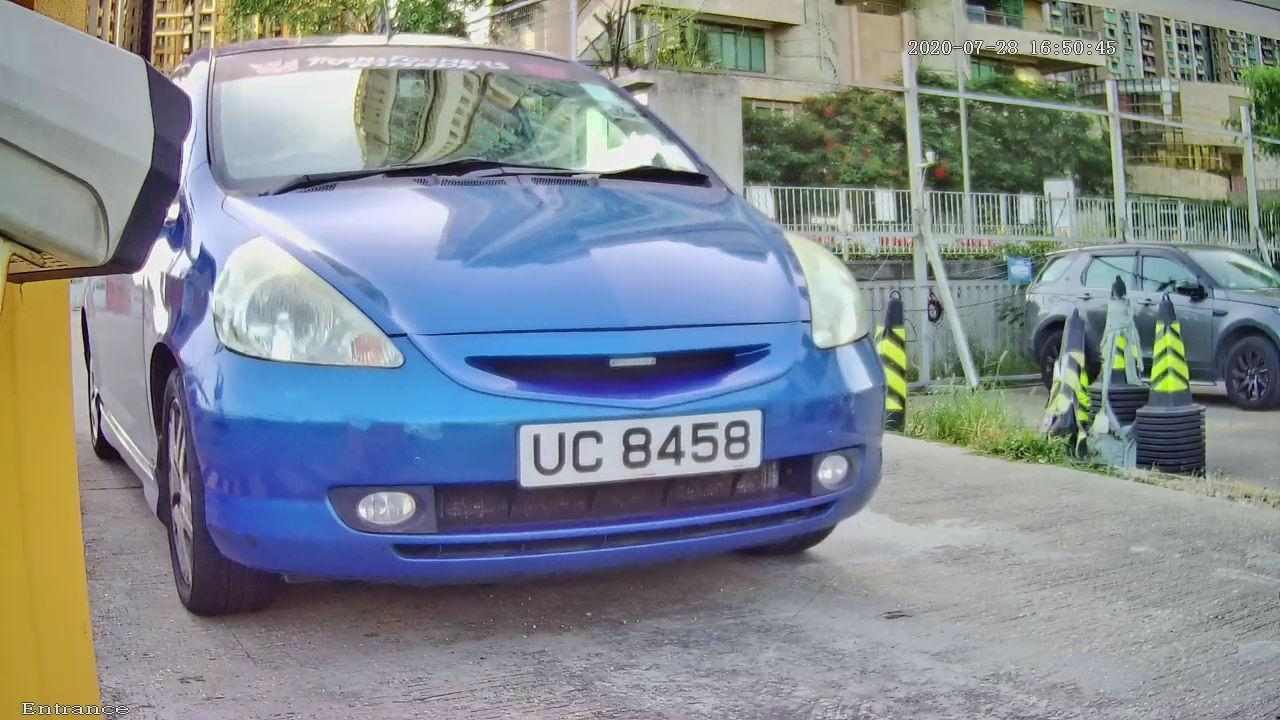privatecar: (58, 13, 989, 621)
